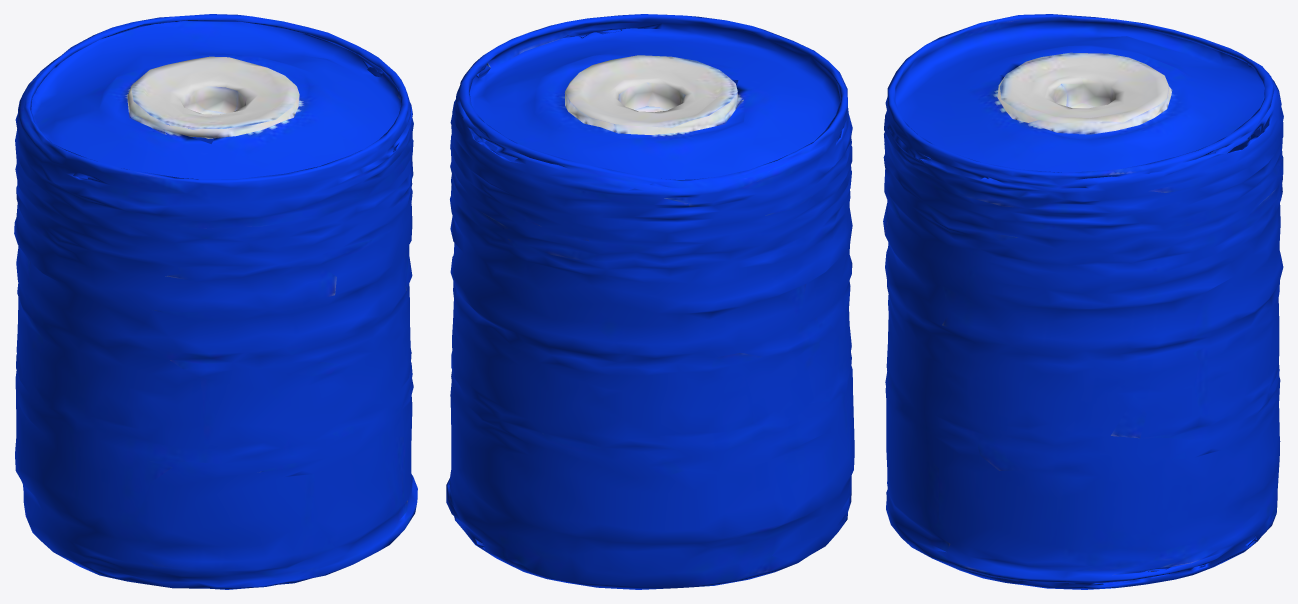
The model's file is kn_cryo_jacket.glb.
The picture shows the model from 3 angles, left to right: view 1: azimuth 30°, elevation 25°; view 2: azimuth 150°, elevation 25°; view 3: azimuth 270°, elevation 25°; orthographic projection.
Visible parts, largest first — view 1: geometry_0; view 2: geometry_0; view 3: geometry_0.
Part boxes in pixels (x1=…): geometry_0: x1=14, y1=14, x2=417, y2=589; geometry_0: x1=446, y1=14, x2=854, y2=589; geometry_0: x1=883, y1=14, x2=1283, y2=589.
Bounding box in the file's own units: 0.8814 × 1 × 0.8648.
Materials: 1 (1 with a texture image).
